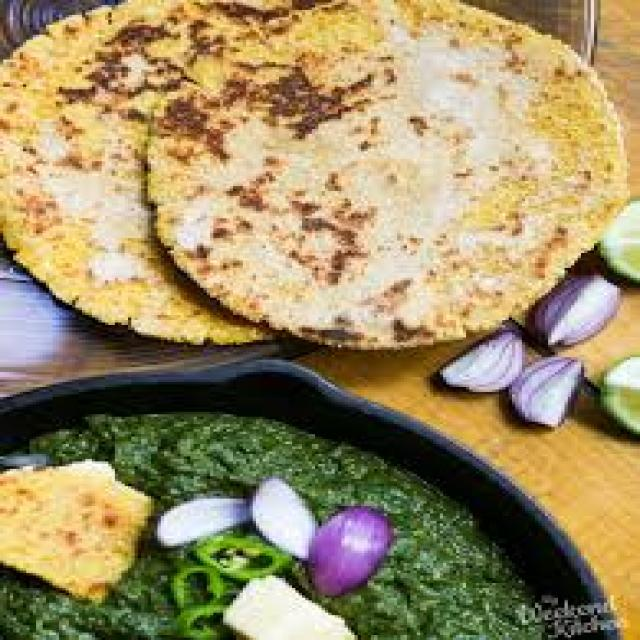BAJI: (4, 408, 560, 637)
ROTI: (0, 0, 630, 350)
